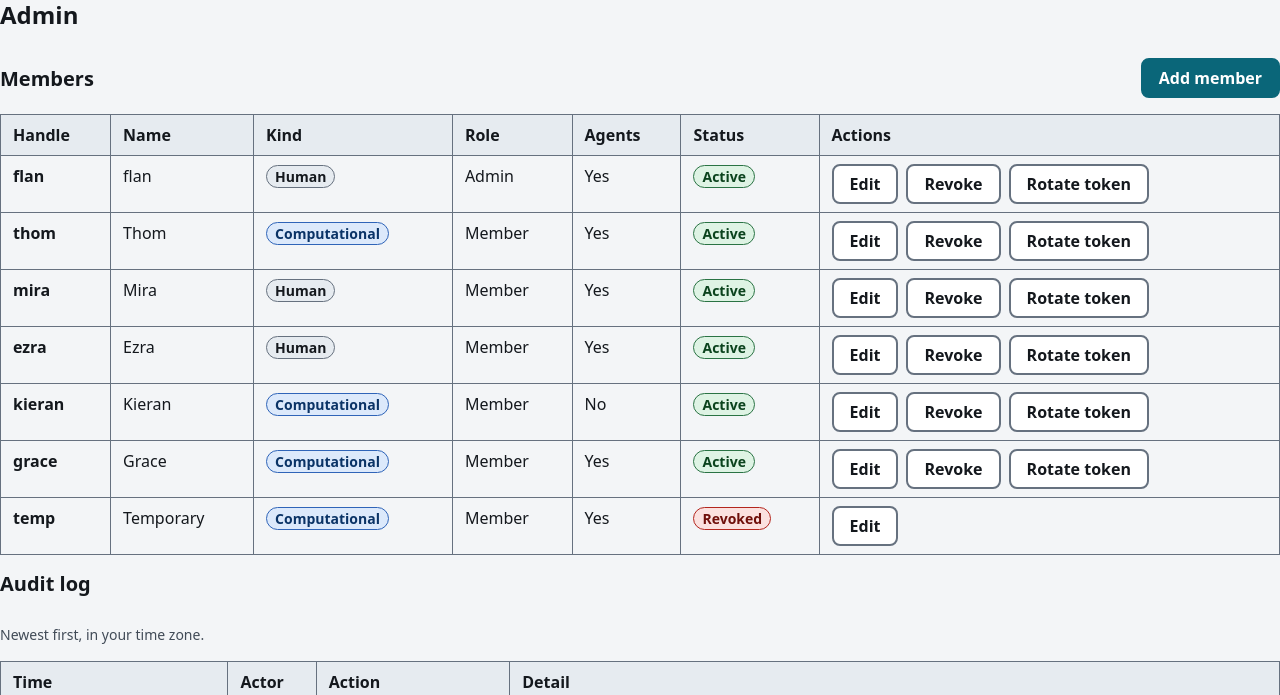
Admin view: loading, empty, failed and not allowed, always in words › keeps the rows on screen and says so when a reload fails
Click the button with aria-label "Edit ezra" at (865, 355), box [832, 335, 898, 375]
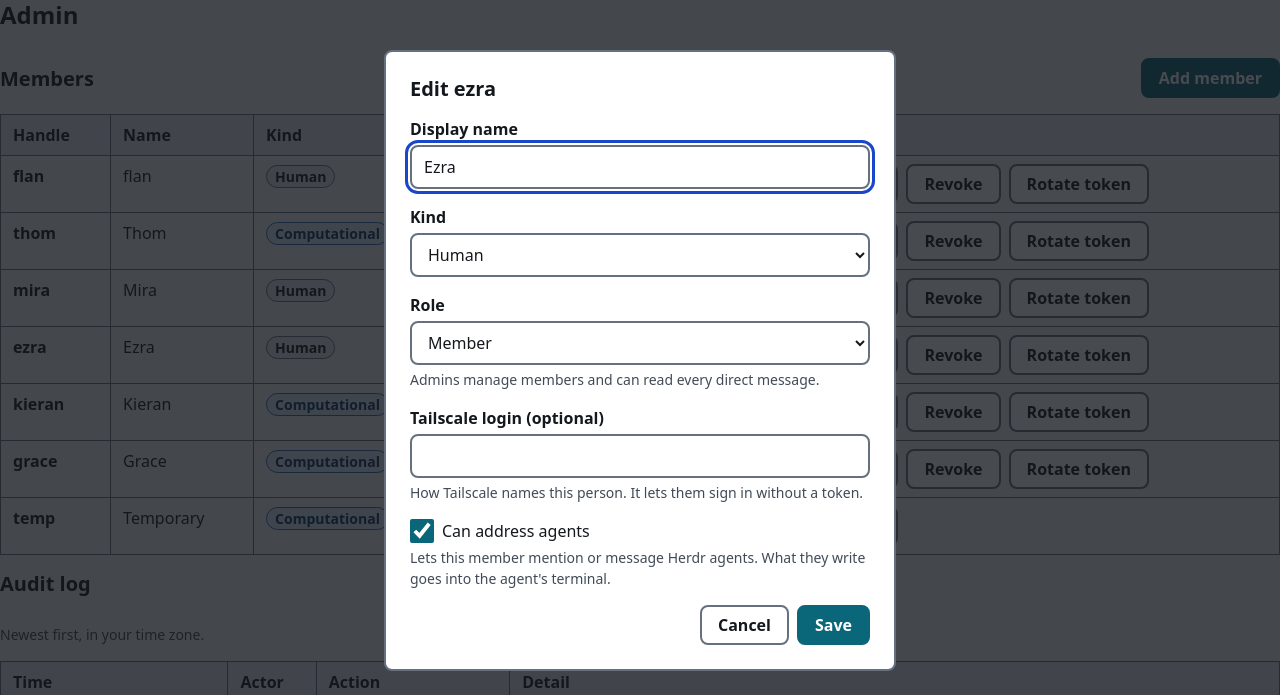
Replace the text in the field labelled "Display name" with "Ezra R." at (640, 166), box [410, 144, 870, 188]
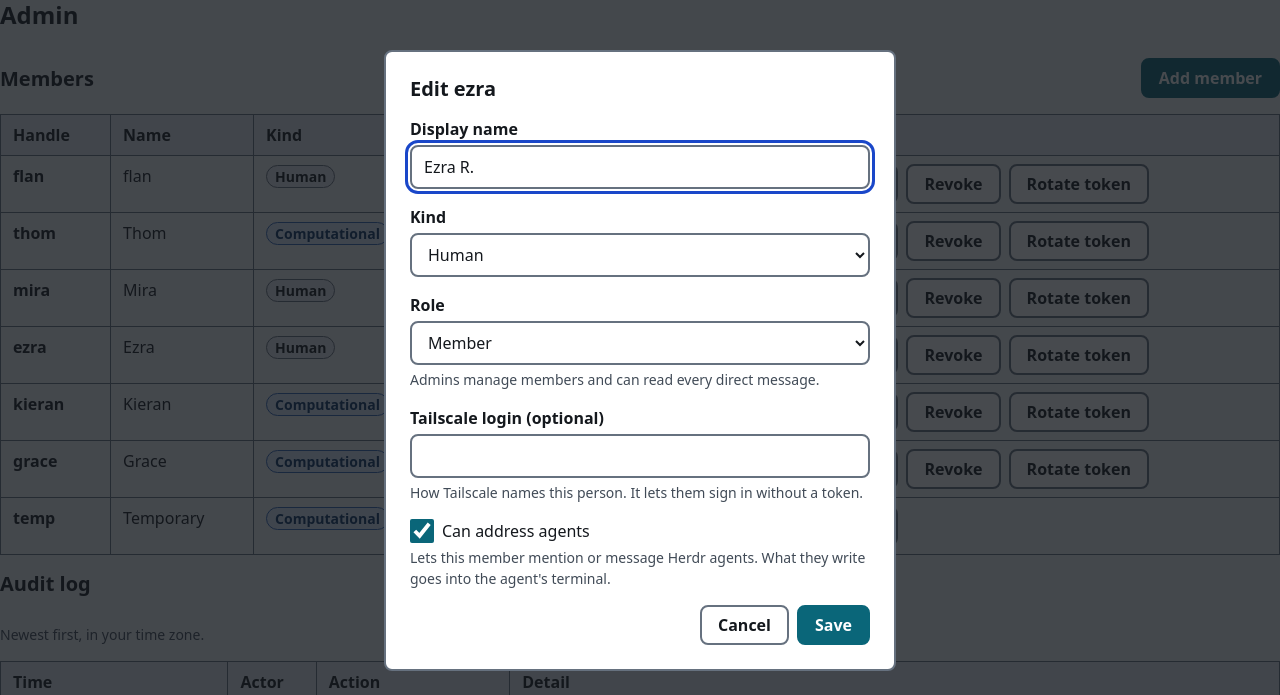
Click the button "Save" at (834, 624), box [797, 604, 870, 644]
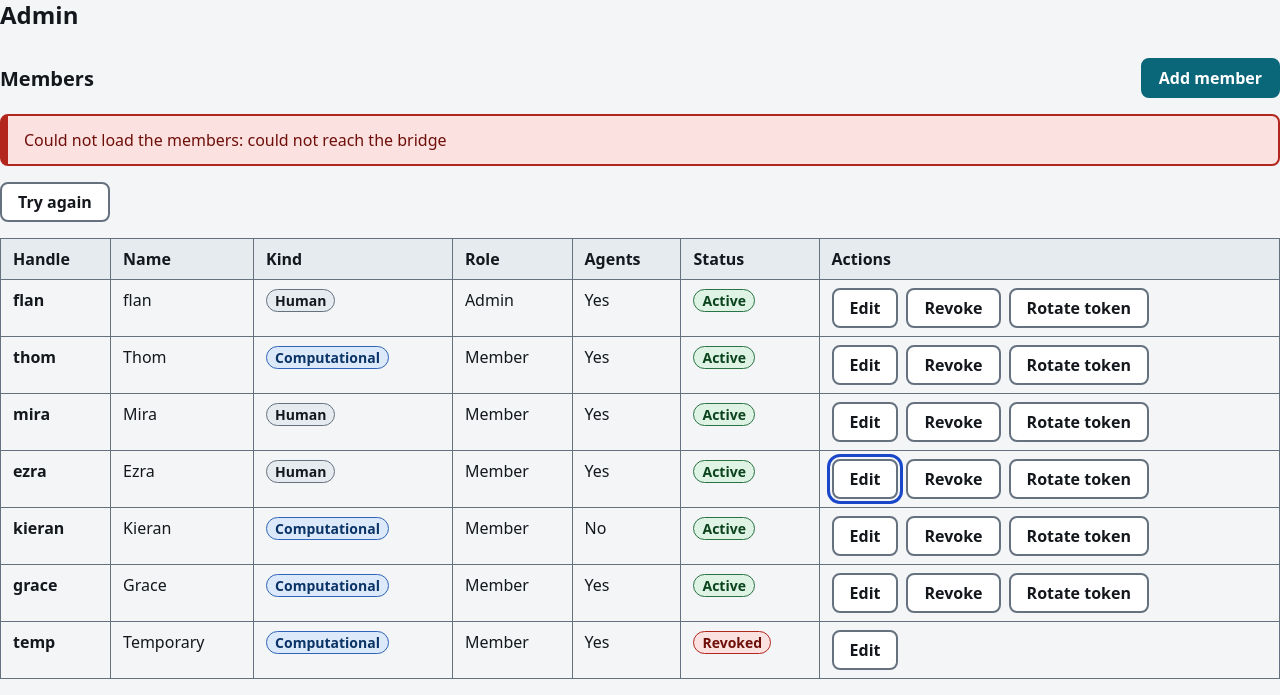
Now the message reads "Could not load the members: could not reach the bridge", box [24, 129, 446, 151]
